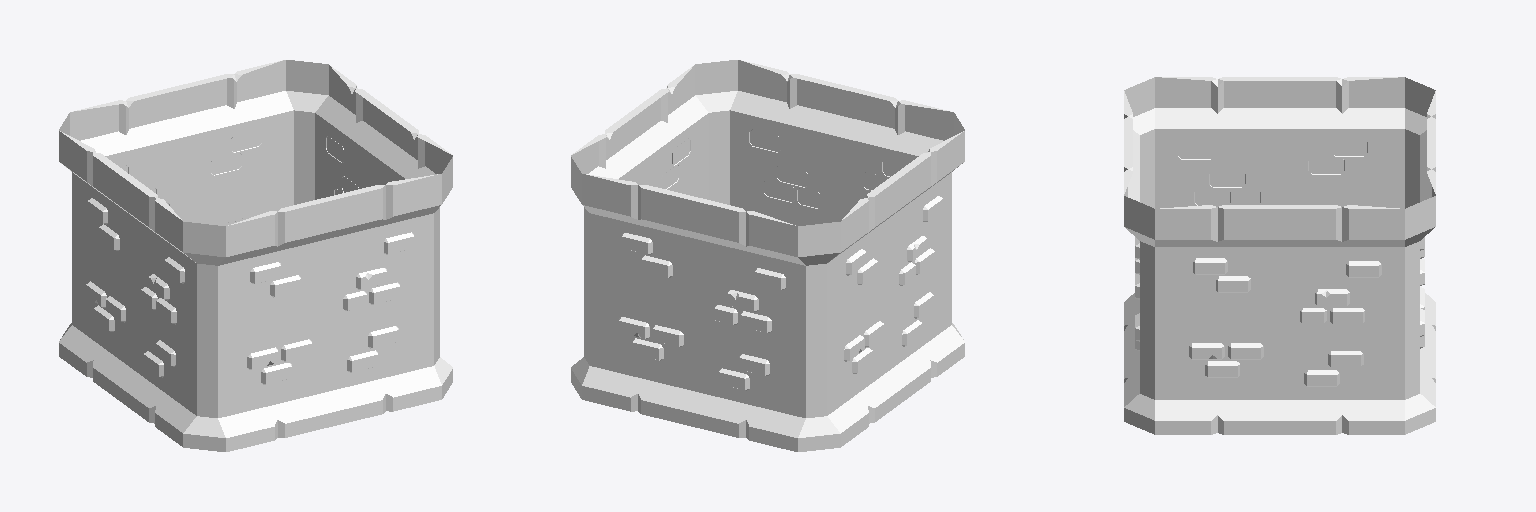
Rendered from wall.obj.
3 views of the same model, side by side, from view 1: azimuth 30°, elevation 25°; view 2: azimuth 150°, elevation 25°; view 3: azimuth 270°, elevation 25° (orthographic).
Visible parts, largest first — view 1: wall; view 2: wall; view 3: wall.
Boxes of the visible parts, x1=… form: wall: x1=59, y1=60, x2=452, y2=451; wall: x1=571, y1=60, x2=964, y2=451; wall: x1=1124, y1=77, x2=1435, y2=434.
Size of the model in its own units: 5 by 4 by 5.